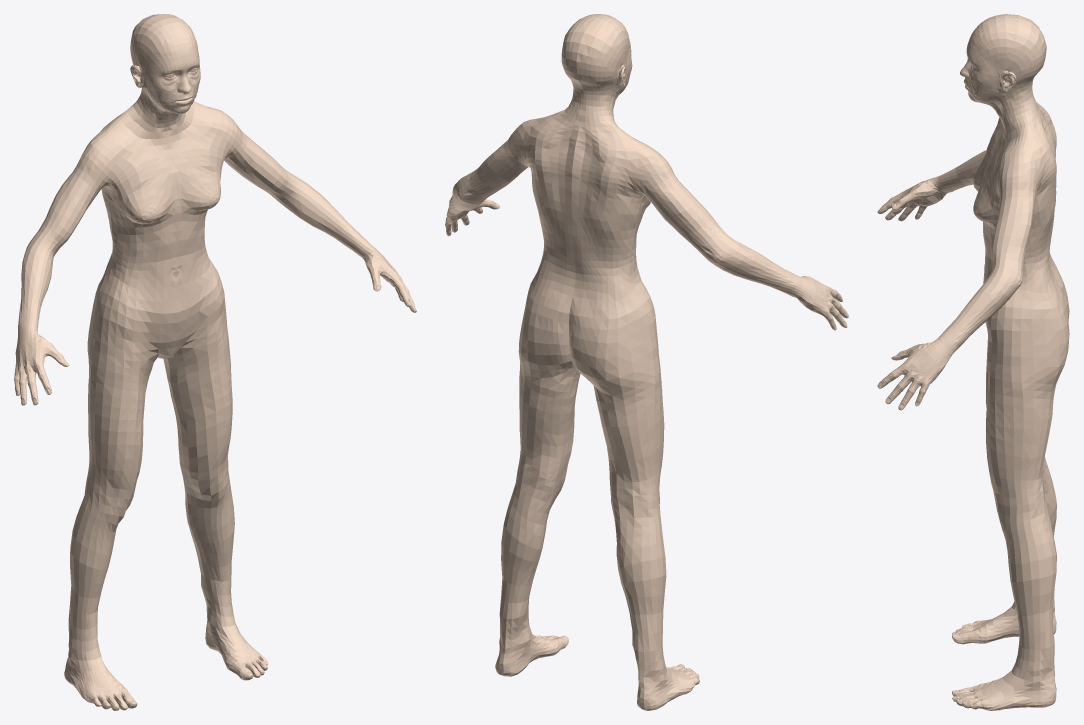
The model's file is female-older-lean-high.glb.
3 views of the same model, side by side, from view 1: azimuth 30°, elevation 25°; view 2: azimuth 150°, elevation 25°; view 3: azimuth 270°, elevation 25° (orthographic).
Visible parts, largest first — view 1: world; view 2: world; view 3: world.
Part boxes in pixels (x1,y1,x2,y2): world: (14,14,416,710); world: (445,14,848,710); world: (877,14,1069,710).
Bounding box in the file's own units: 1.13 × 1.8 × 0.48.
